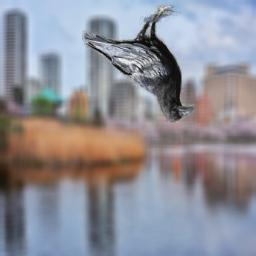Crow: (82, 5, 195, 124)
